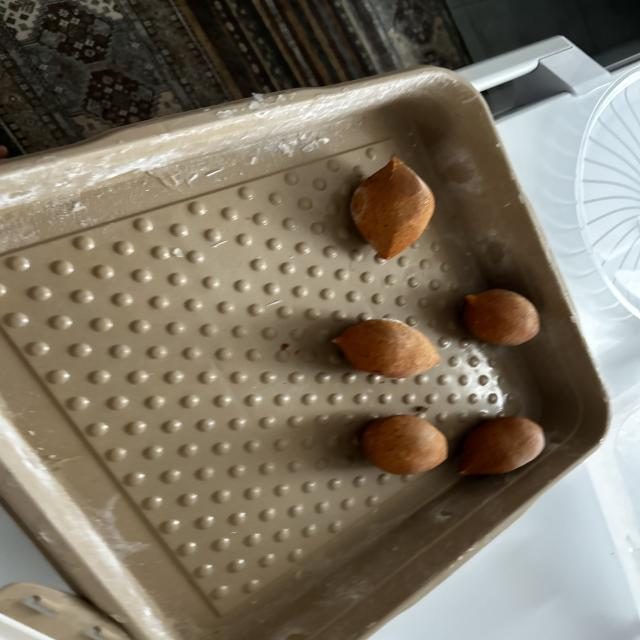kobi: (352, 153, 436, 263), (331, 318, 444, 379), (358, 420, 461, 474), (464, 416, 549, 480), (463, 285, 544, 347)
